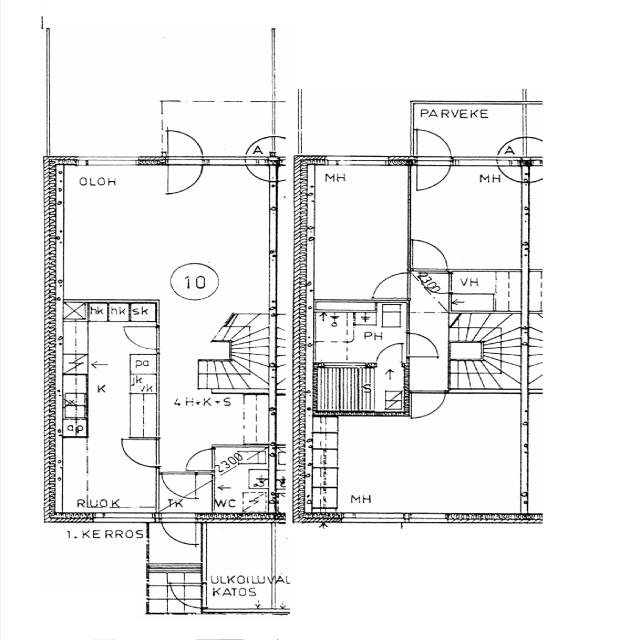door: (161, 512, 196, 550), (168, 156, 203, 191), (417, 129, 451, 165), (168, 130, 203, 164), (417, 156, 451, 191), (161, 471, 195, 500), (413, 242, 447, 271), (412, 391, 446, 418), (376, 273, 410, 298), (171, 584, 207, 607), (407, 334, 440, 356), (377, 343, 402, 368), (186, 449, 216, 469), (423, 273, 451, 293)
